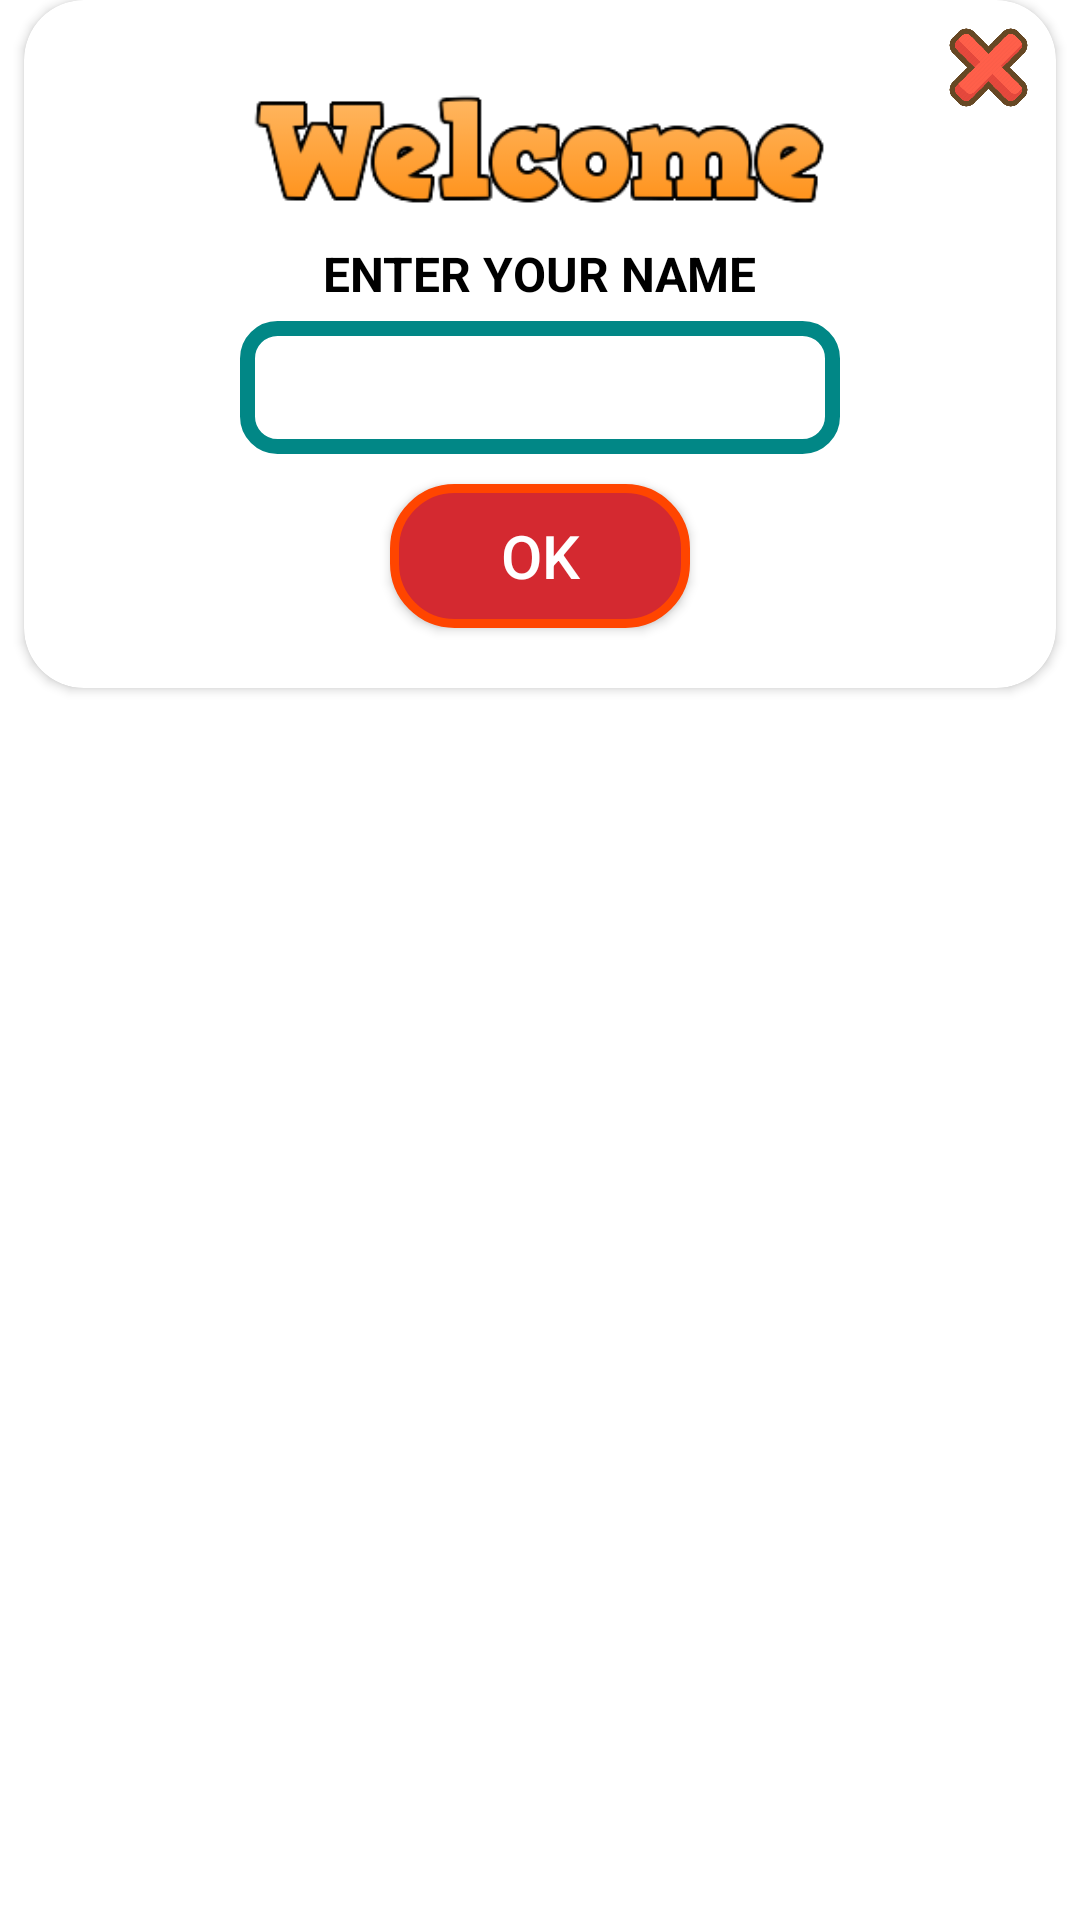

Where to tap for icons on this 1080 x 1920 app screen, as (x,y):
ekis: (988,67)
